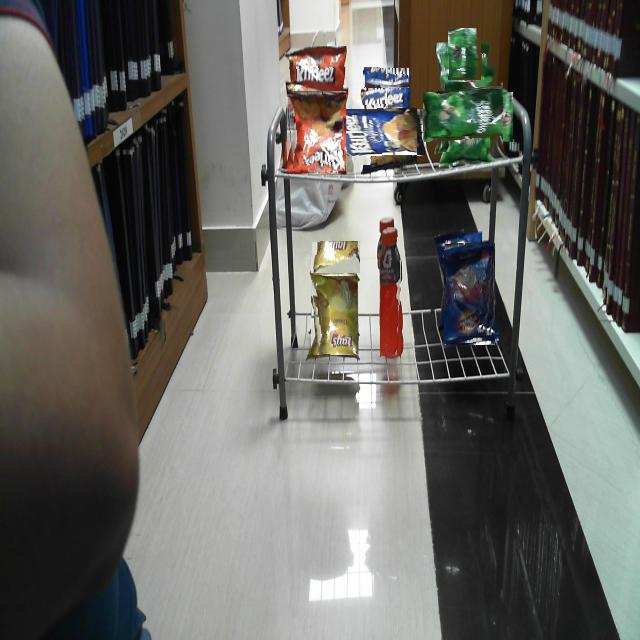Plastic: (444, 243, 495, 345), (432, 82, 503, 153), (286, 91, 346, 174), (353, 100, 417, 165), (310, 276, 358, 356), (380, 227, 403, 357), (287, 46, 348, 87), (442, 33, 486, 76), (311, 241, 360, 273), (363, 66, 409, 88)
